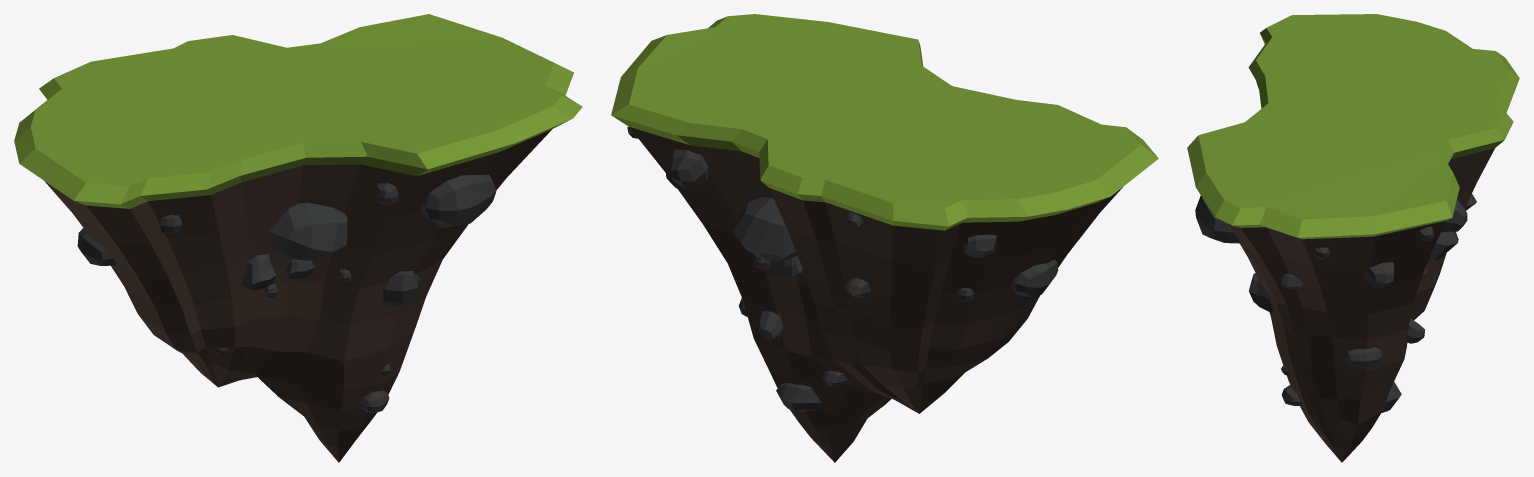
Rendered from GrassIslandVar1.fbx.
3 renders of one model, left to right at view 1: azimuth 30°, elevation 25°; view 2: azimuth 150°, elevation 25°; view 3: azimuth 270°, elevation 25°, orthographic. The views are drawn at different scales.
Parts seen in each view (by area): view 1: GrassIslandVar1; view 2: GrassIslandVar1; view 3: GrassIslandVar1.
Part boxes in pixels (box(x1,y1,x2,y2)): GrassIslandVar1: box(14, 14, 582, 462); GrassIslandVar1: box(611, 14, 1158, 462); GrassIslandVar1: box(1187, 14, 1519, 462).
Bounding box in the file's own units: 8002 × 5544 × 5118.
